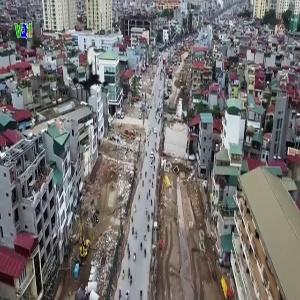drone: (65, 46, 123, 104)
